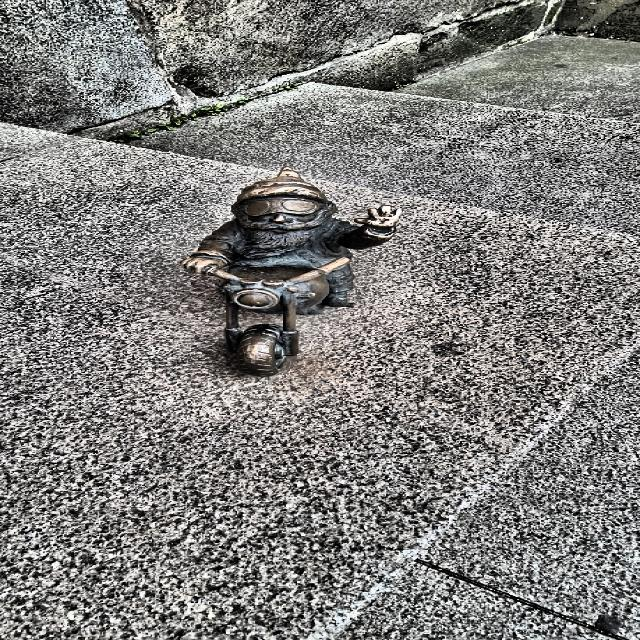Wentyl: (181, 168, 400, 376)
